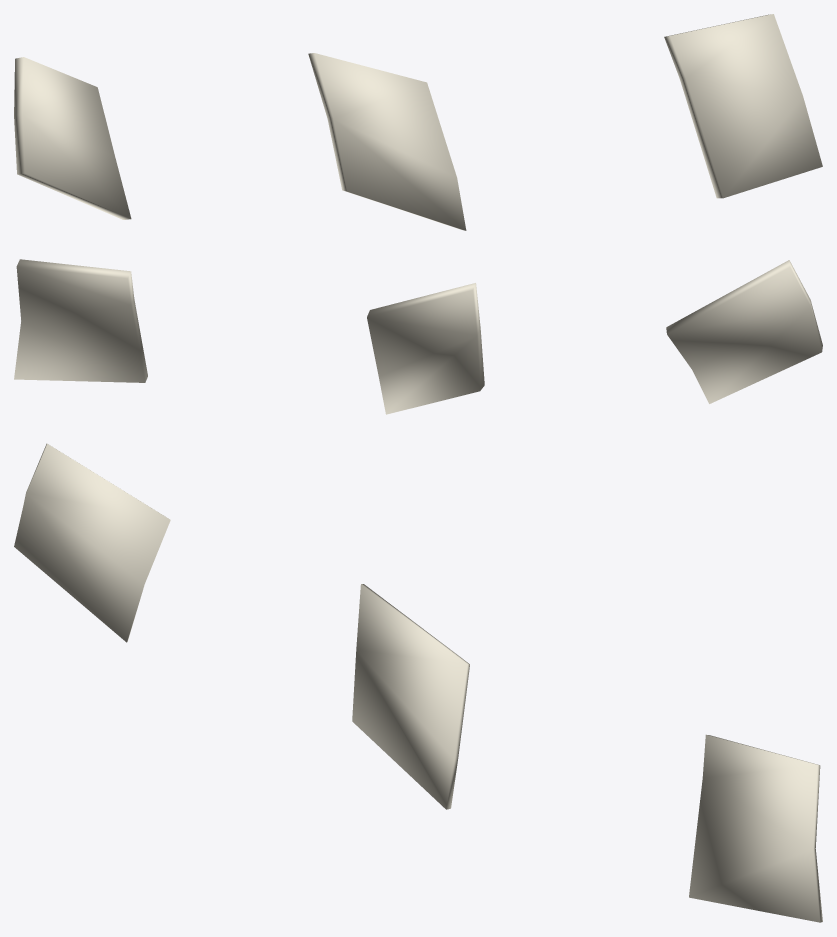
3 renders of one model, top to bottom at view 1: azimuth 30°, elevation 25°; view 2: azimuth 150°, elevation 25°; view 3: azimuth 330°, elevation 25°, orthographic. The views are drawn at different scales.
Parts seen in each view (by area): view 1: ZA_18ded0dc3d21f53a; view 2: ZA_18ded0dc3d21f53a; view 3: ZA_18ded0dc3d21f53a.
Boxes of the visible parts, left/top/right/bottom form: ZA_18ded0dc3d21f53a: left=14, top=14, right=822, bottom=230; ZA_18ded0dc3d21f53a: left=14, top=259, right=822, bottom=414; ZA_18ded0dc3d21f53a: left=14, top=443, right=822, bottom=922.
Bounding box in the file's own units: 0.0457 × 0.0166 × 0.00497.
